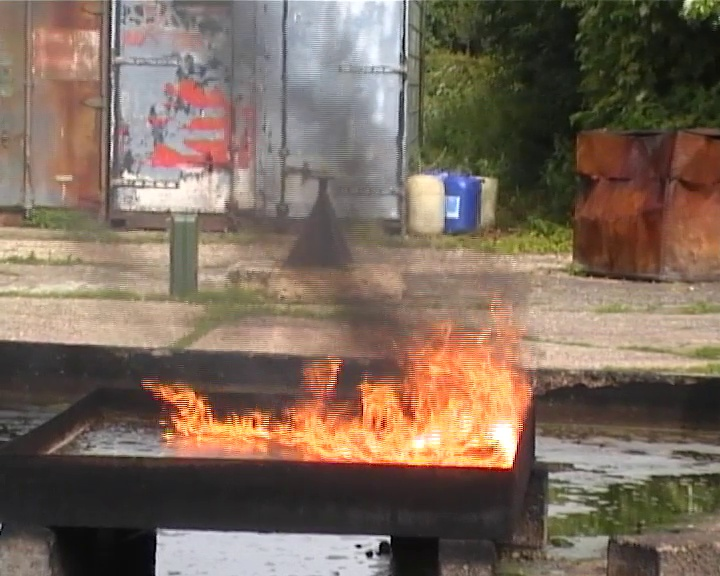fire: (145, 333, 527, 467)
